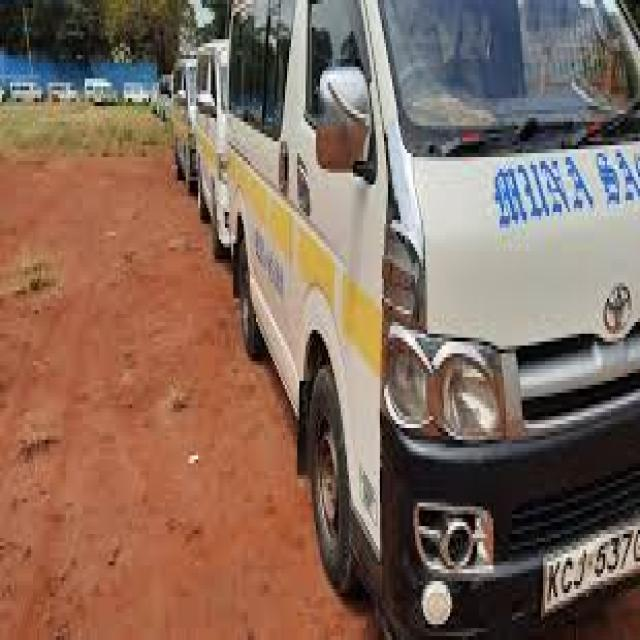matatu: (224, 0, 640, 637)
